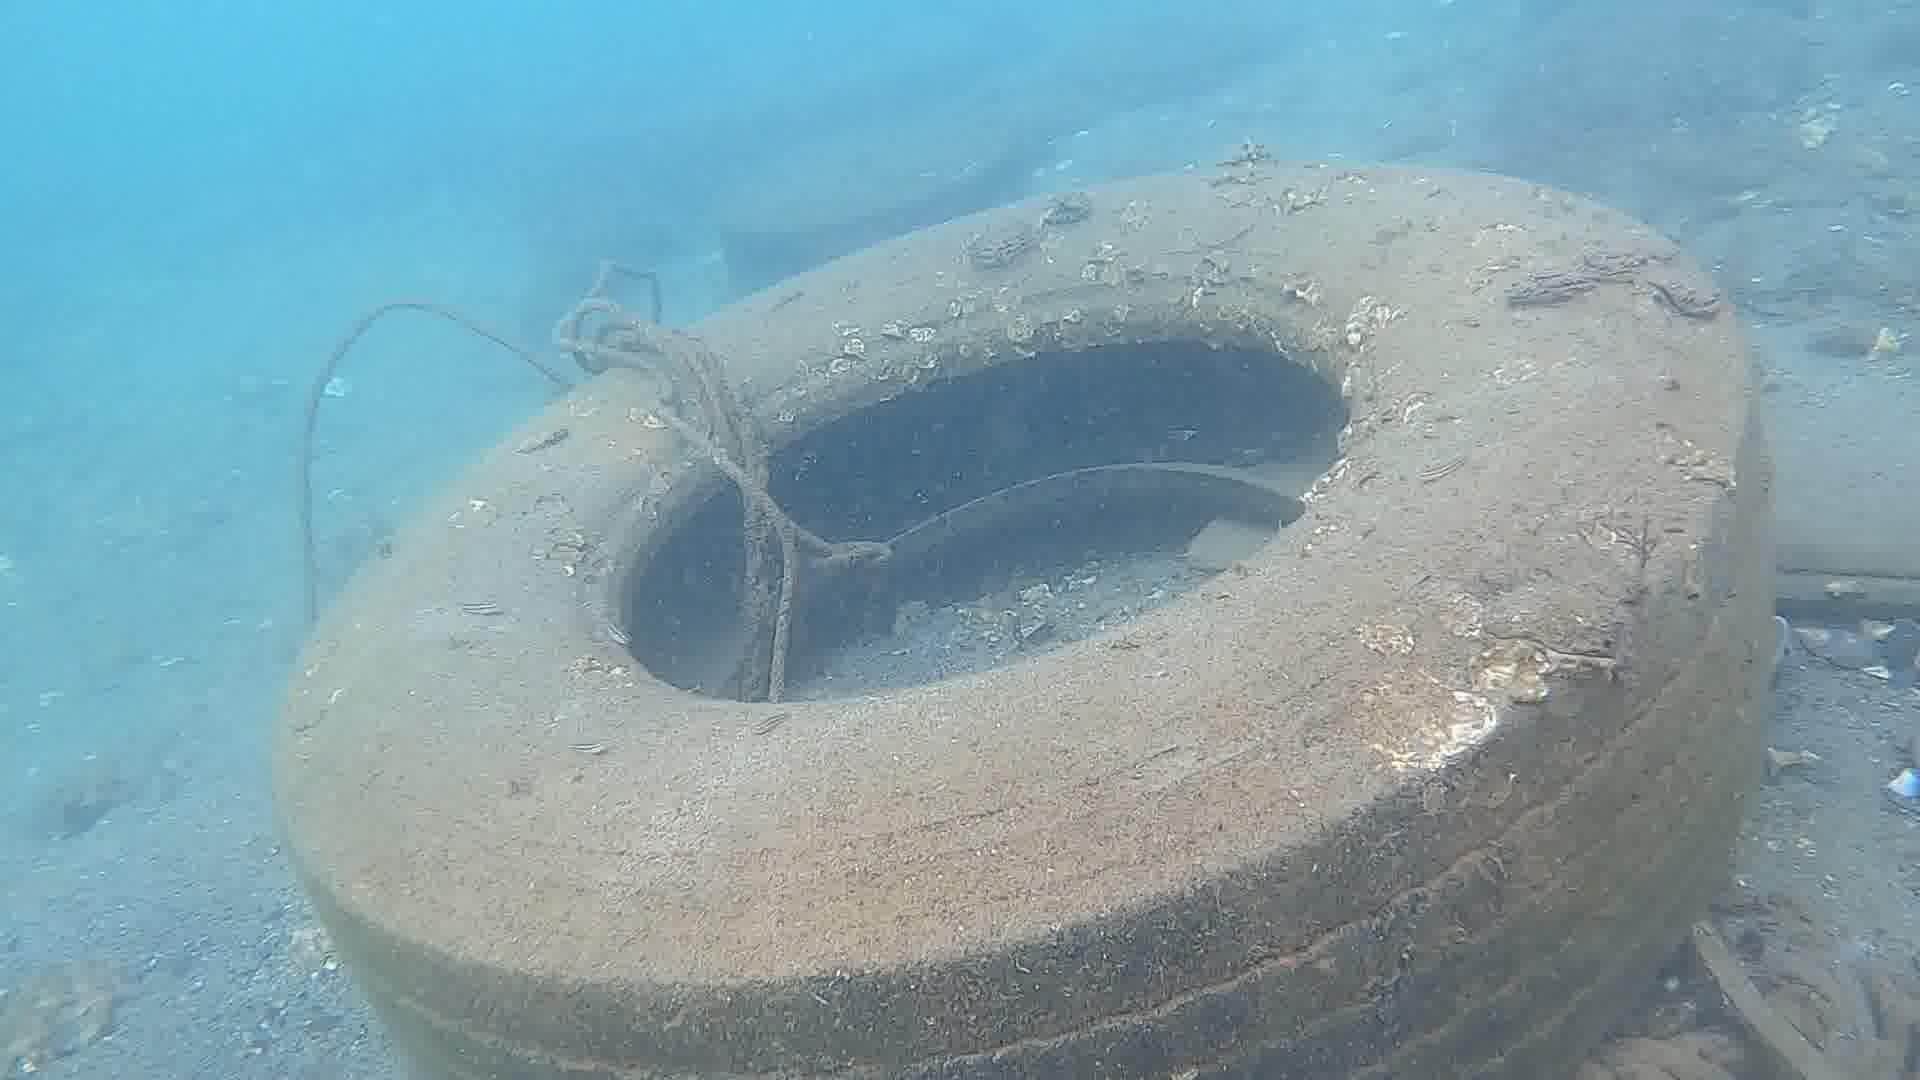bundle of ropes: (295, 256, 893, 702)
rope: (1573, 1021, 1754, 1080)
tire: (270, 157, 1772, 1080)
